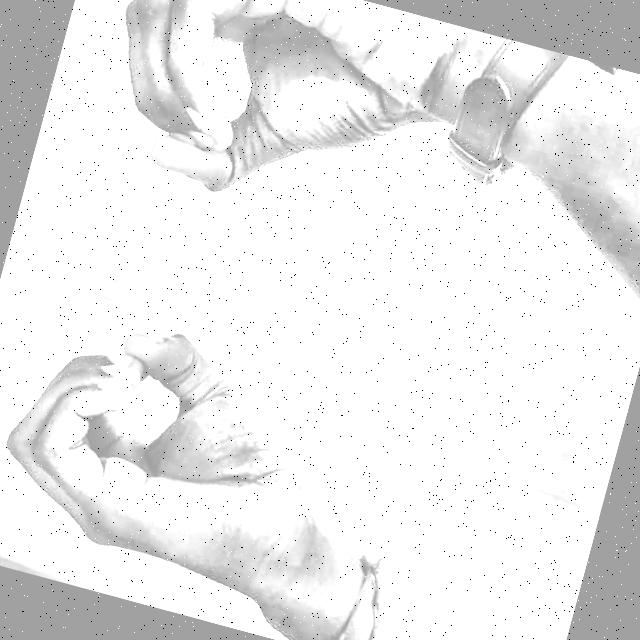Bisharga: (0, 0, 541, 640)
